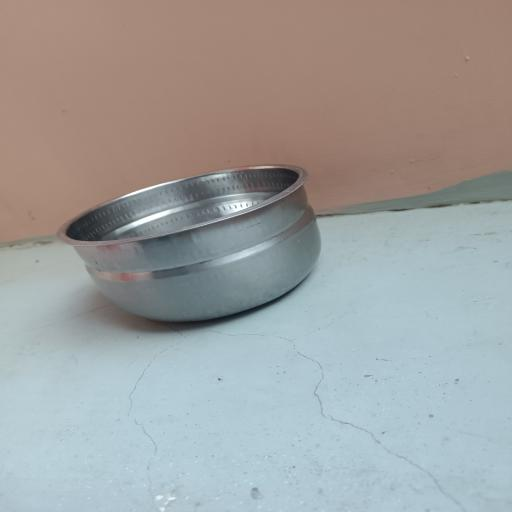vessel: (57, 165, 321, 321)
